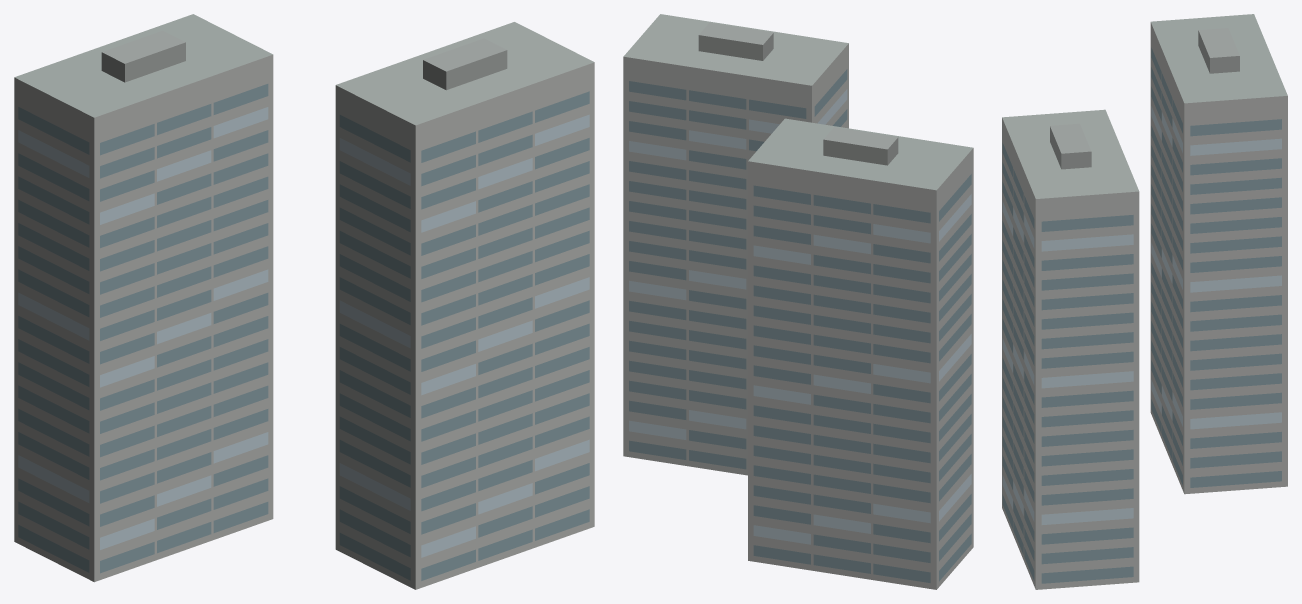
File: apt-a10026761.glb
3 views of the same model, side by side, from view 1: azimuth 30°, elevation 25°; view 2: azimuth 150°, elevation 25°; view 3: azimuth 270°, elevation 25° (orthographic). The views are drawn at different scales.
Parts seen in each view (by area): view 1: apt-a10026761; view 2: apt-a10026761; view 3: apt-a10026761.
Boxes of the visible parts, x1,y1,x2,y2 form: apt-a10026761: [14, 14, 594, 589]; apt-a10026761: [623, 14, 973, 589]; apt-a10026761: [1002, 14, 1287, 589].
Size of the model in its own units: 60.55 by 62 by 39.51.
